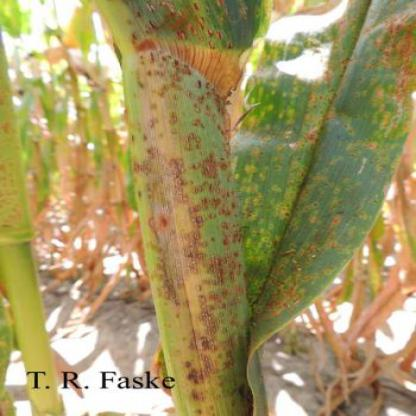corn rust leaf: (235, 2, 415, 344)
